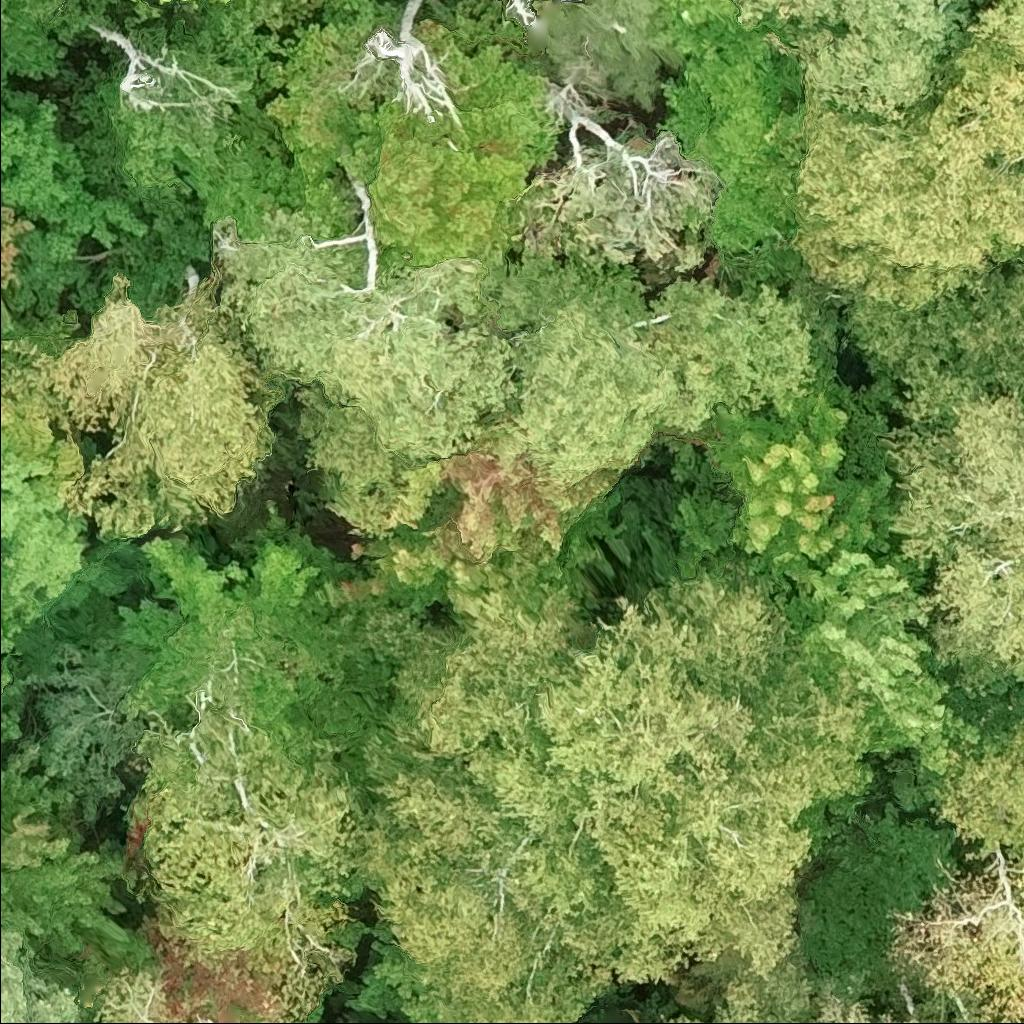crown: (352, 557, 905, 1023), (124, 697, 363, 1023), (877, 359, 1023, 669), (802, 545, 993, 779), (703, 387, 897, 596), (0, 730, 133, 956), (885, 862, 1023, 1023), (0, 407, 94, 602), (927, 713, 1023, 871), (656, 962, 821, 1023), (0, 930, 98, 1023), (792, 989, 991, 1023), (92, 963, 192, 1023)
